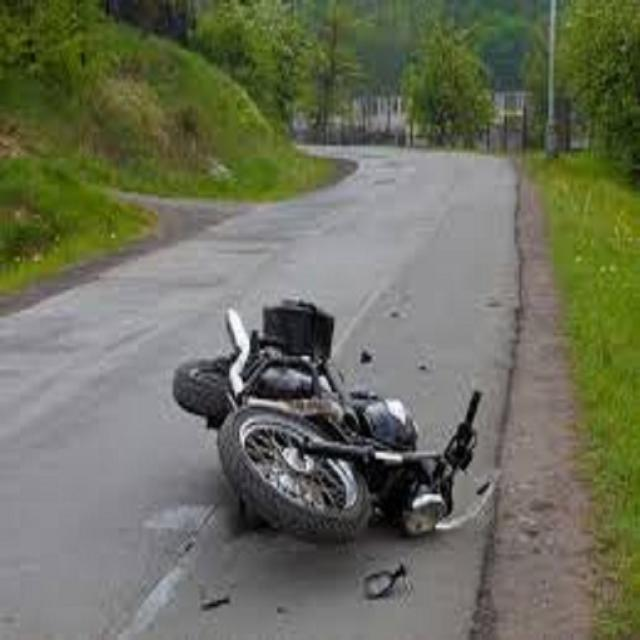accident: (172, 299, 481, 541)
